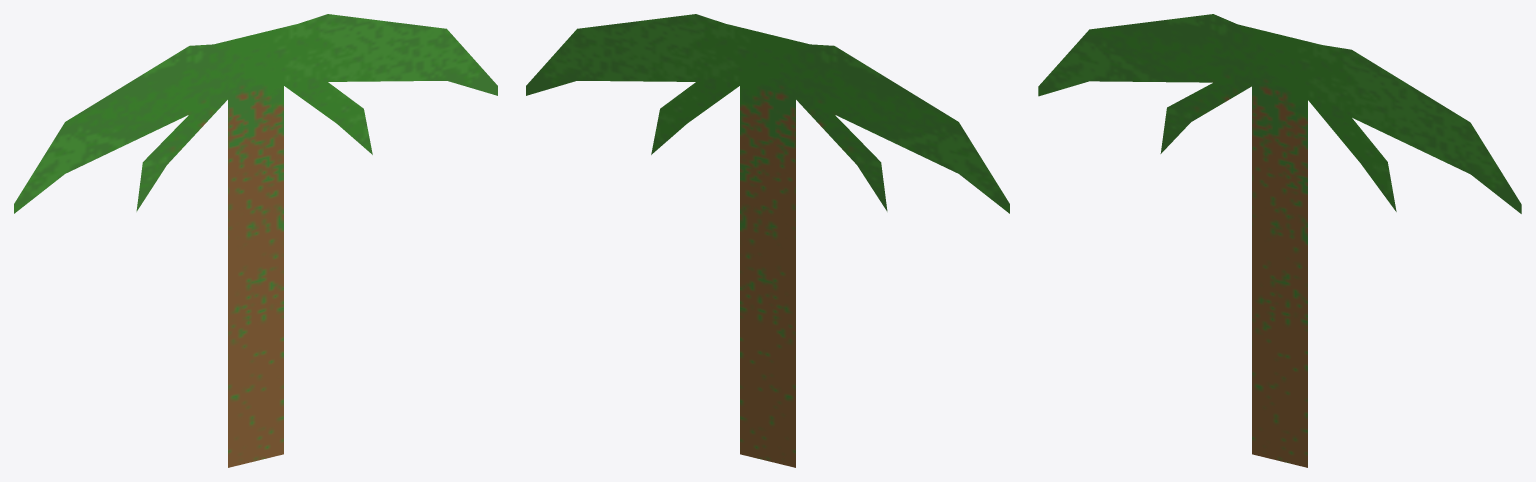
File: SM_backgroundTree2.fbx
3 views of the same model, side by side, from view 1: azimuth 30°, elevation 25°; view 2: azimuth 150°, elevation 25°; view 3: azimuth 330°, elevation 25° (orthographic).
Parts seen in each view (by area): view 1: pasted__pPlane65; view 2: pasted__pPlane65; view 3: pasted__pPlane65.
Boxes of the visible parts, x1,y1,x2,y2 form: pasted__pPlane65: (14,14,497,467); pasted__pPlane65: (526,14,1009,467); pasted__pPlane65: (1038,14,1521,467).
Size of the model in its own units: 25.24 by 21.51 by 1.32e-15.
